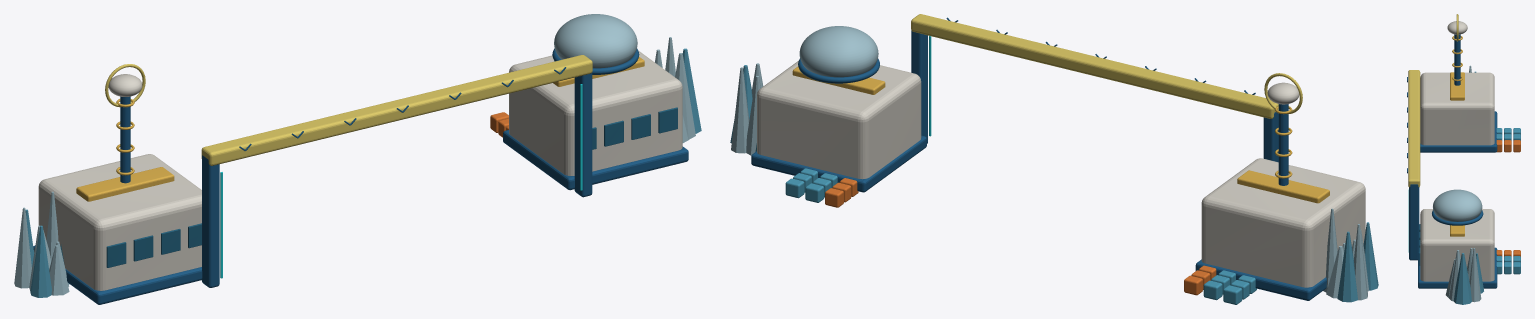
File: glacier_summit_station_landmark_v1.glb
3 views of the same model, side by side, from view 1: azimuth 30°, elevation 25°; view 2: azimuth 150°, elevation 25°; view 3: azimuth 270°, elevation 25° (orthographic). The views are drawn at different scales.
Parts seen in each view (by area): view 1: glacier_summit_station_landmark_v1; view 2: glacier_summit_station_landmark_v1; view 3: glacier_summit_station_landmark_v1.
Part boxes in pixels (x1,y1,x2,y2): glacier_summit_station_landmark_v1: (14, 14, 701, 304); glacier_summit_station_landmark_v1: (730, 14, 1378, 304); glacier_summit_station_landmark_v1: (1407, 14, 1520, 304).
Bounding box in the file's own units: 37.5 × 10.87 × 9.18.
